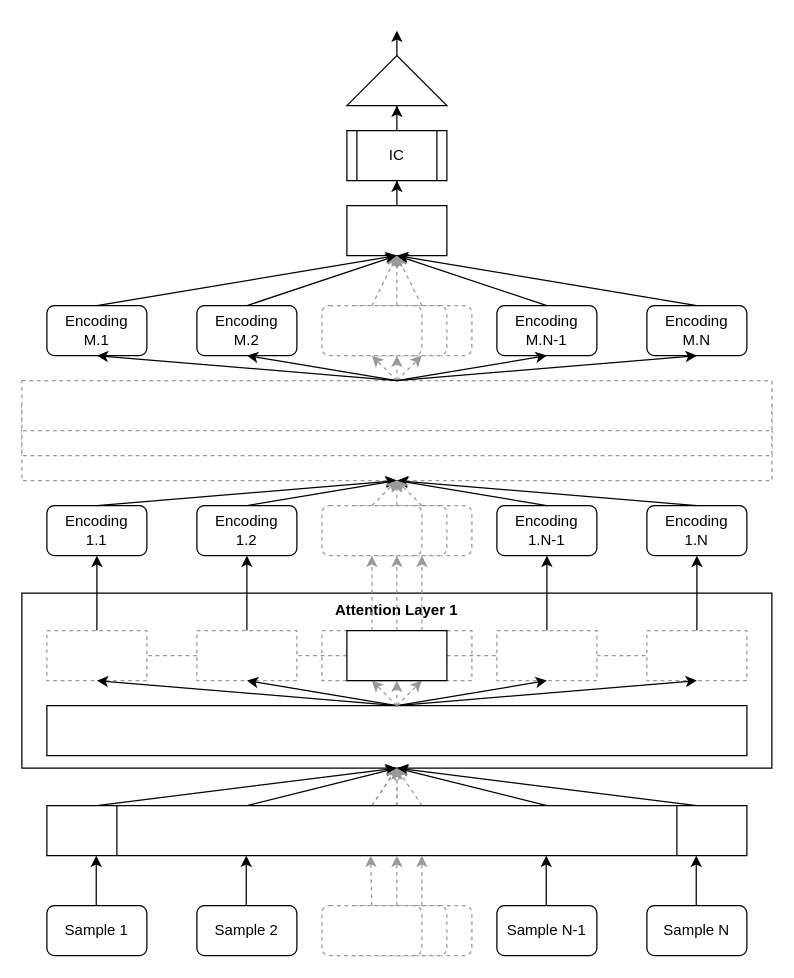
Image size: 794x978. Some labels were removed from this diagram. Each missing label, with the centre of its shape:
"Attention Layers 2—M" goes at (396,405).
"Feed-Forward Network 1" goes at (396,655).
"Fully Connected" goes at (396,230).
"Multi-Head Attention" goes at (396,730).
"Output" goes at (396,80).
"Positional Encoding" goes at (396,830).
